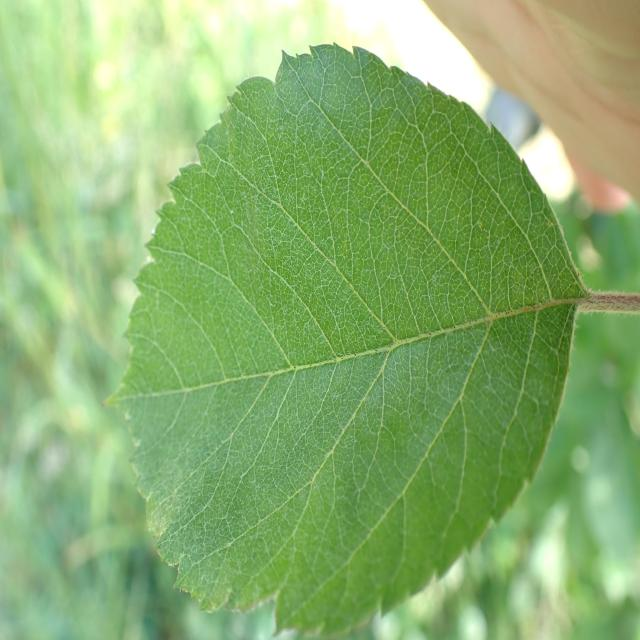healthy: (103, 43, 586, 635)
